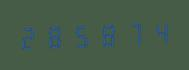eight: (42, 21, 66, 50), (93, 20, 117, 49)
five: (68, 20, 92, 50)
four: (143, 18, 167, 47)
seven: (118, 19, 142, 48)
two: (17, 22, 41, 51)
